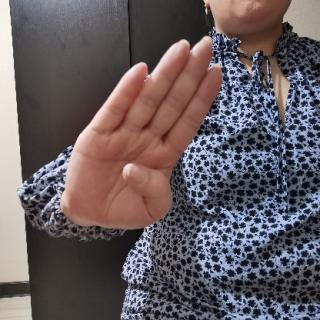KAAF: (60, 31, 228, 231)
